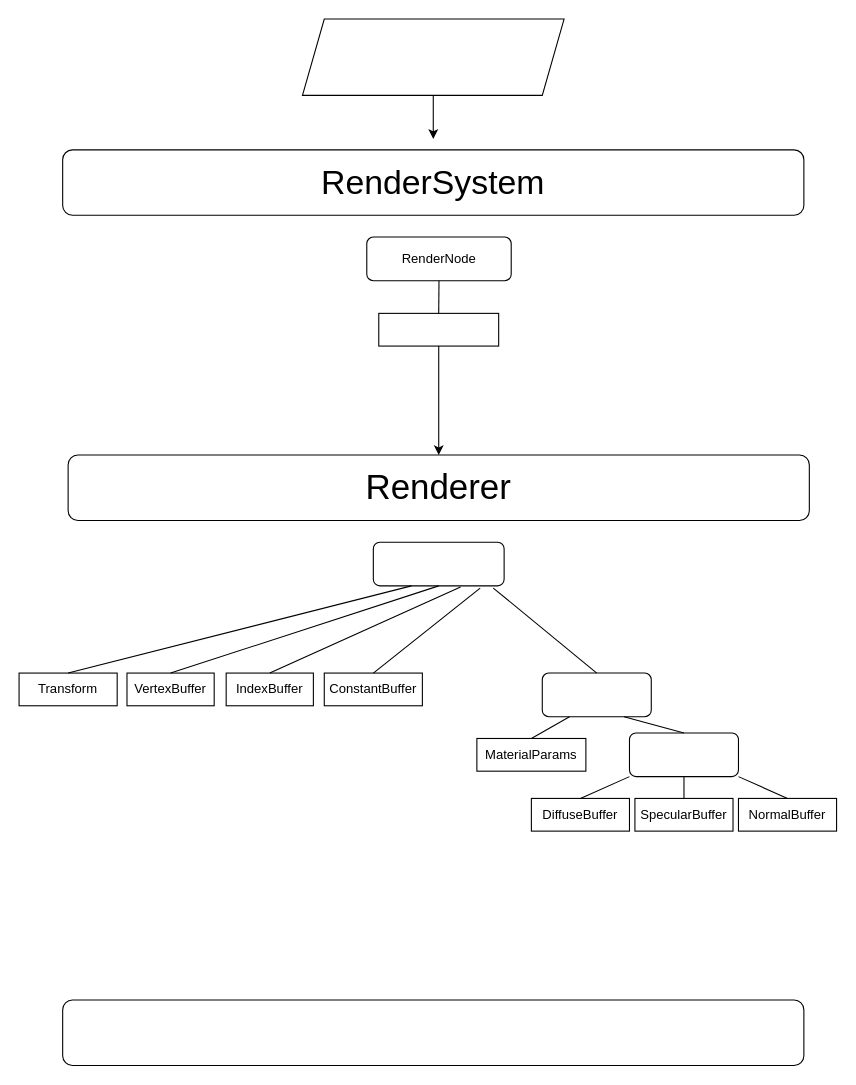
Image size: 856x1085. Some labels were removed from this diagram. Here are the shapes that lost their labels. From the top down, the centre of each, then its label:
At (x=432, y=56): "MeshComponent".
At (x=438, y=329): "RenderObjectIndex".
At (x=438, y=563): "RenderObject".
At (x=596, y=694): "MaterialData".
At (x=683, y=754): "GPUBufferData".
At (x=433, y=1032): "Shader".
